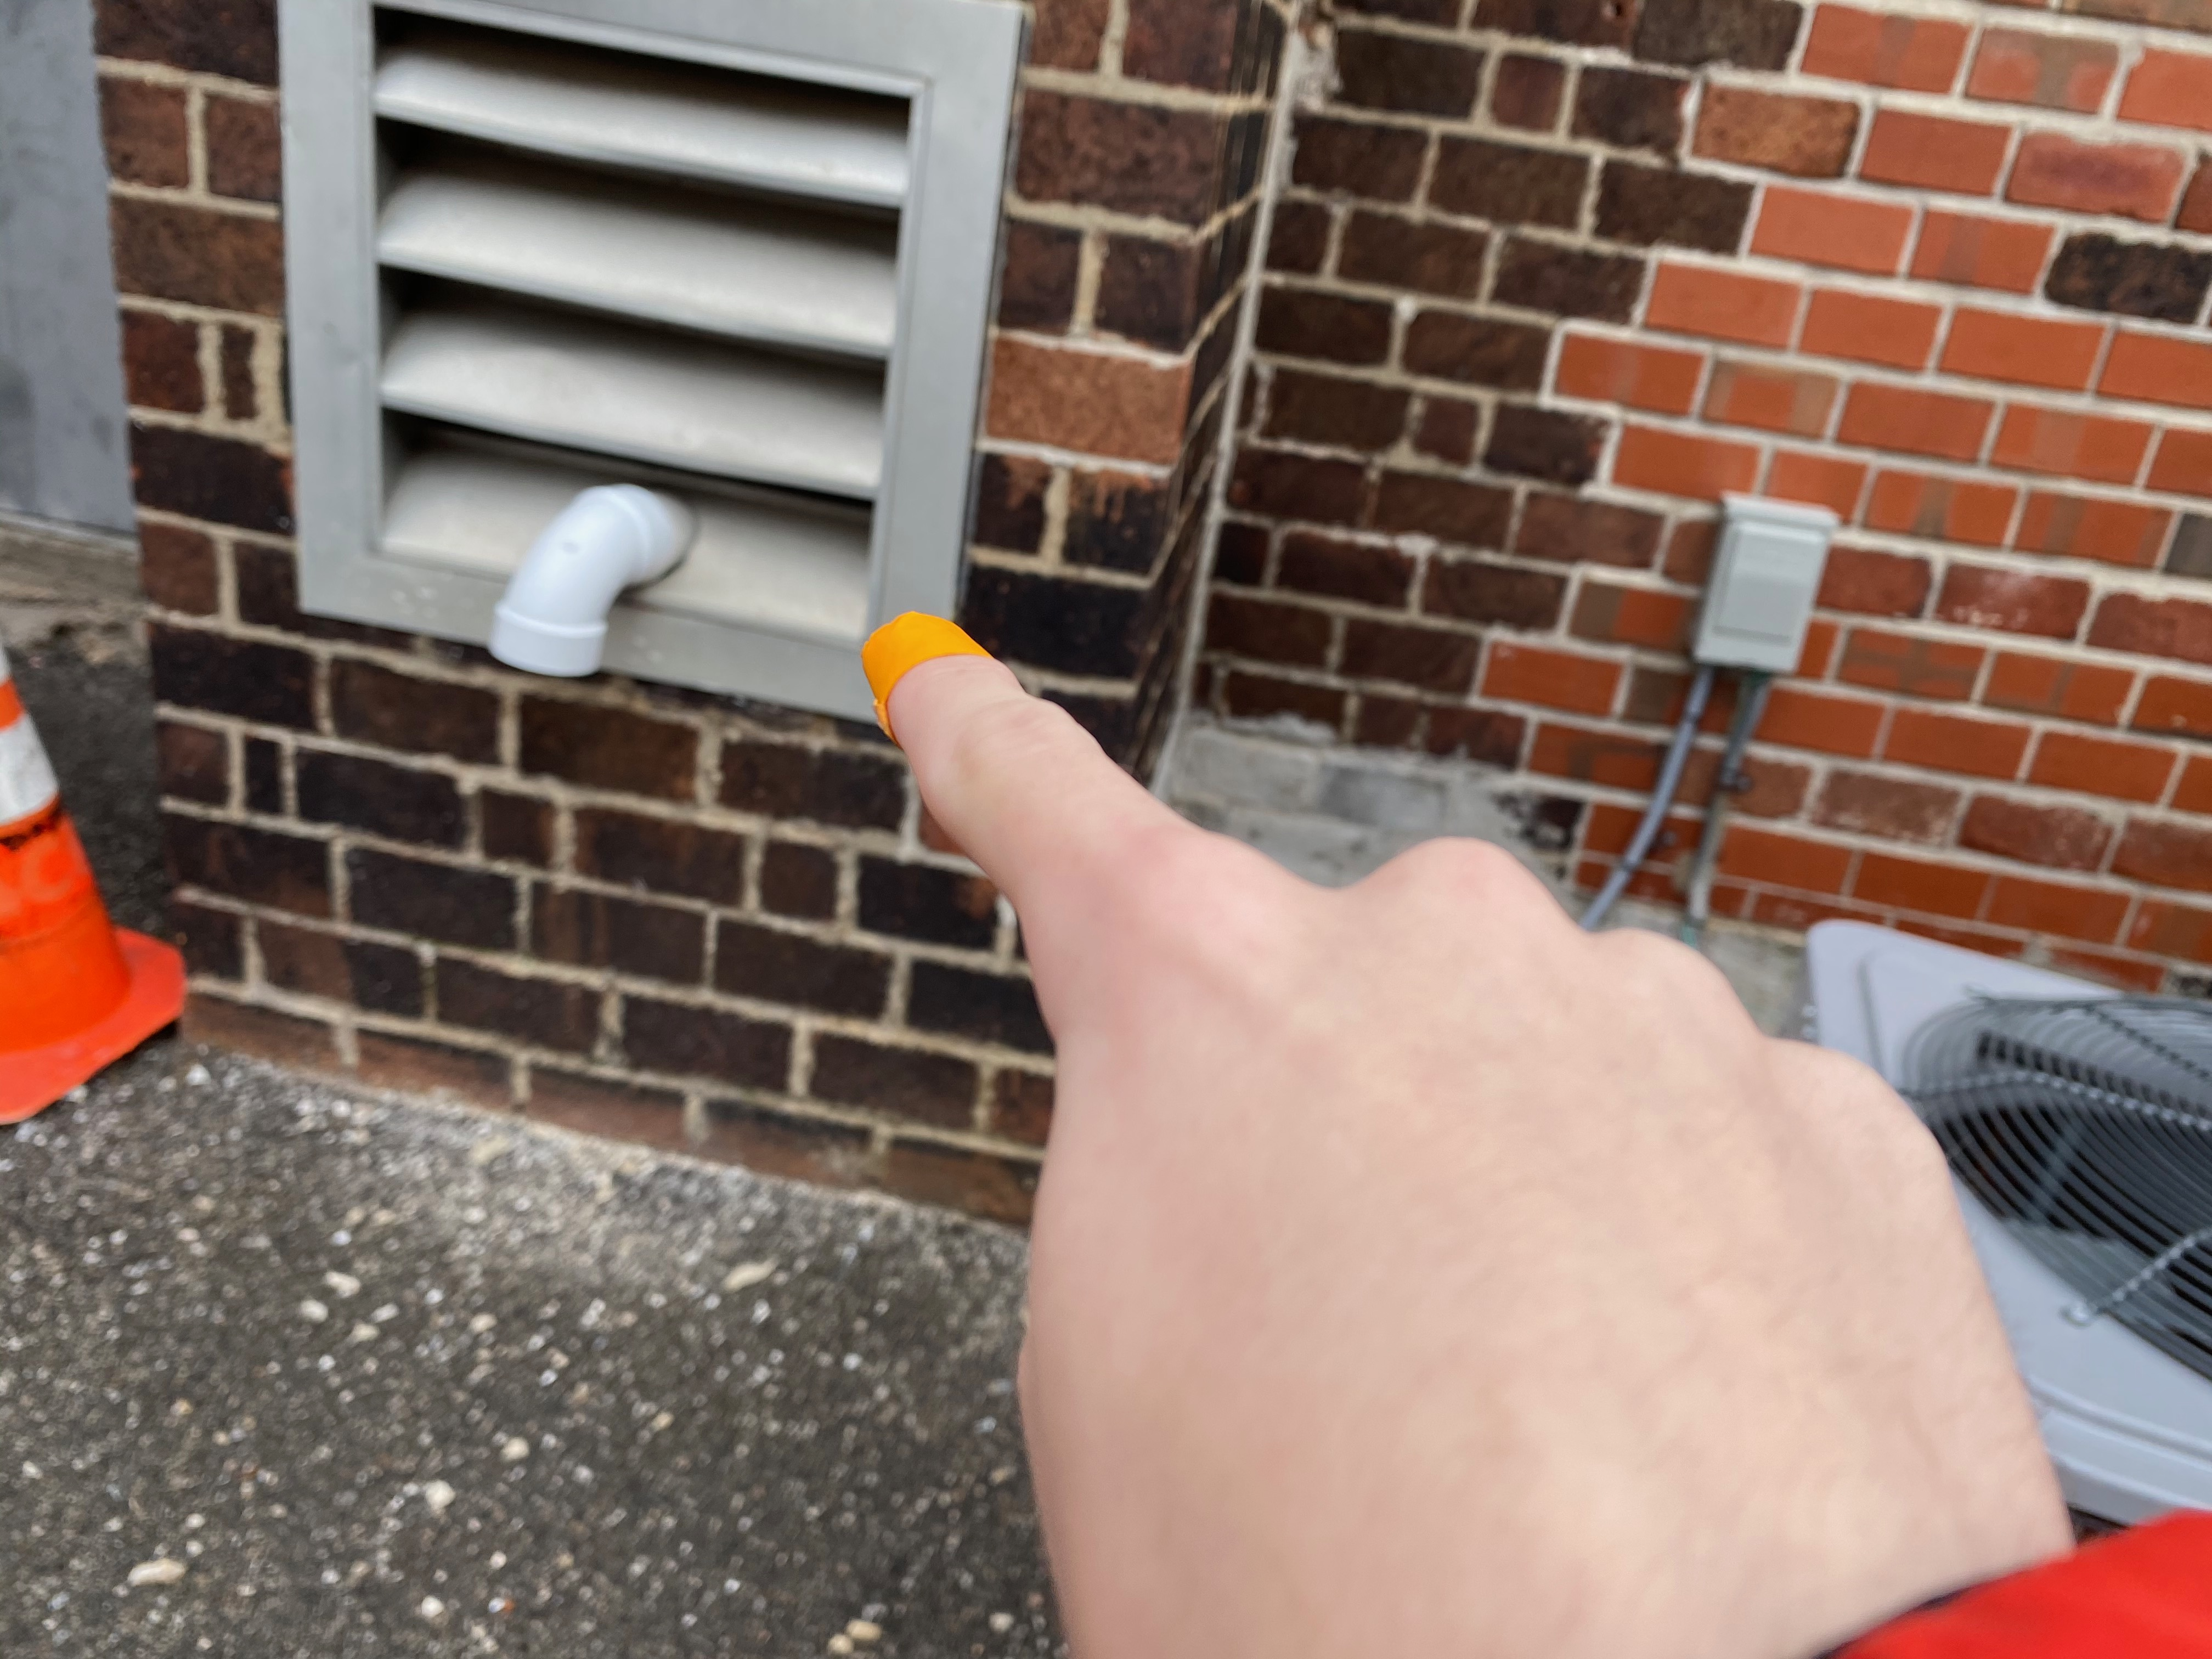fingertip: (834, 606, 1057, 755)
